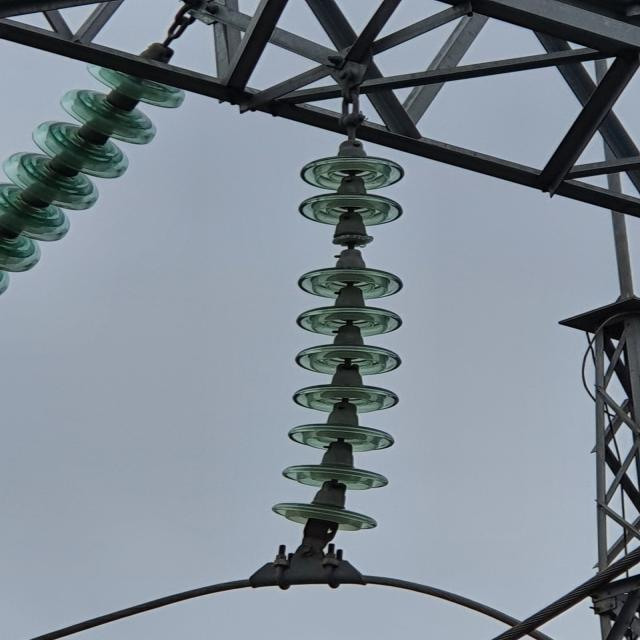正常绝缘子: (0, 19, 243, 307), (276, 134, 423, 553)
绝缘子破损: (332, 222, 374, 260)
